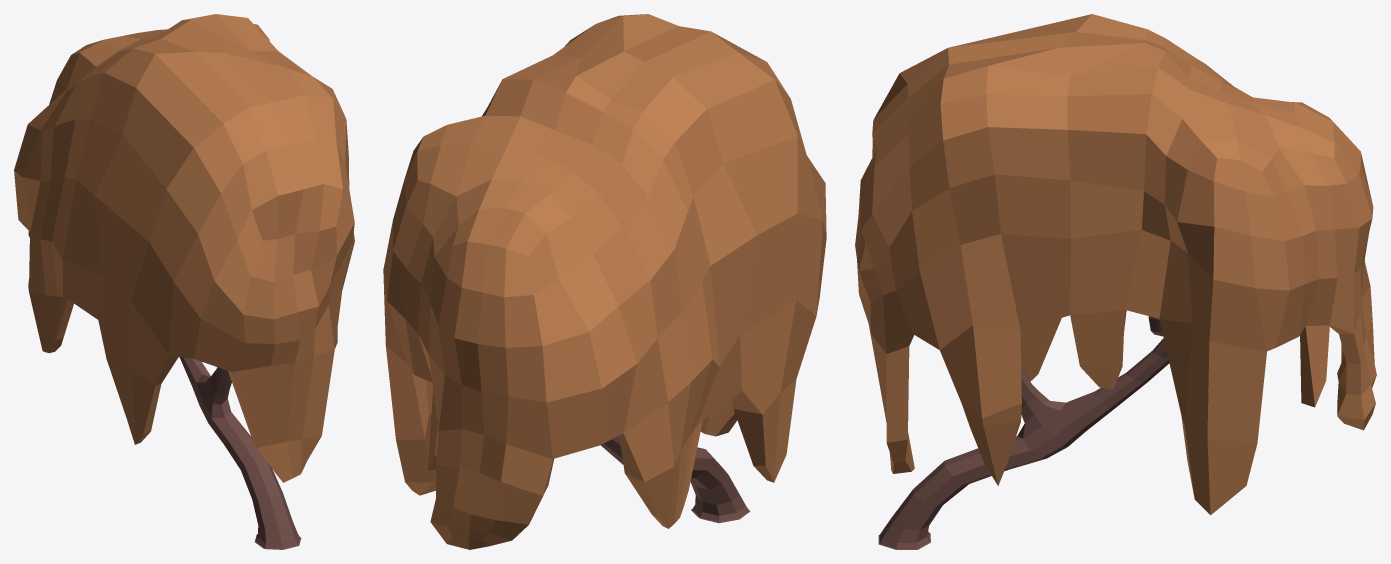
The model's file is willow_autumn_2.glb.
3 views of the same model, side by side, from view 1: azimuth 30°, elevation 25°; view 2: azimuth 150°, elevation 25°; view 3: azimuth 270°, elevation 25° (orthographic). The views are drawn at different scales.
Parts seen in each view (by area): view 1: Willow_Autumn_2; view 2: Willow_Autumn_2; view 3: Willow_Autumn_2.
Part boxes in pixels (x1,y1,x2,y2): Willow_Autumn_2: (14,14,354,549); Willow_Autumn_2: (383,14,826,549); Willow_Autumn_2: (855,14,1376,549).
Size of the model in its own units: 1.95 by 3.32 by 3.11.
